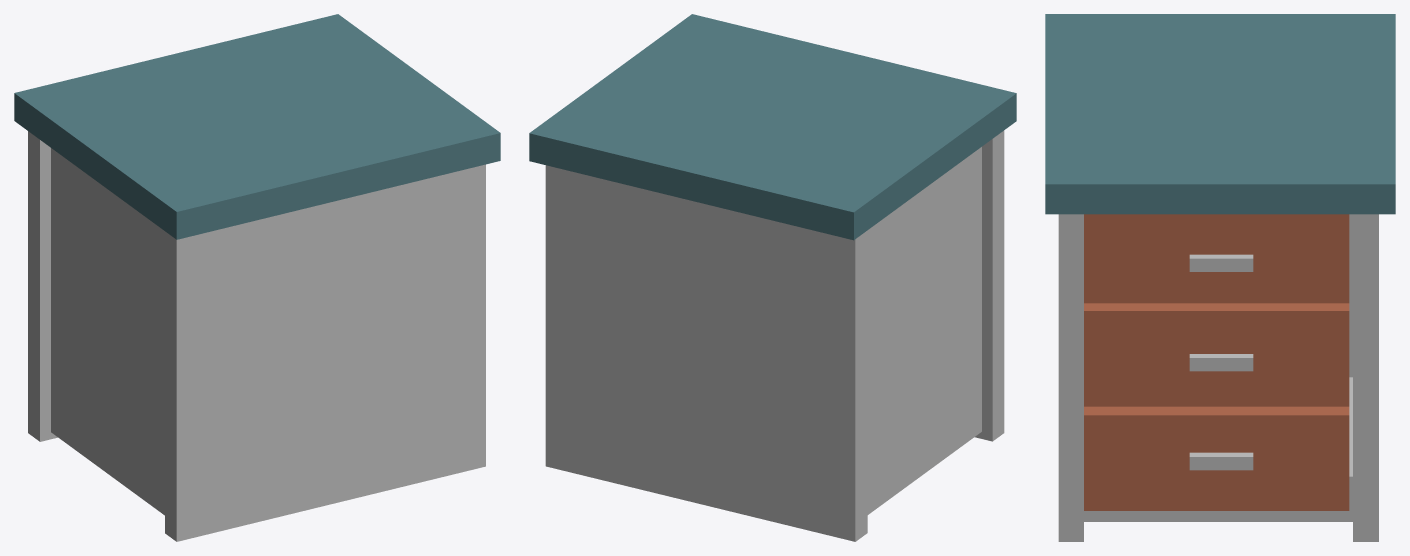
File: SM_Shelf_B1_Empty.fbx
3 views of the same model, side by side, from view 1: azimuth 30°, elevation 25°; view 2: azimuth 150°, elevation 25°; view 3: azimuth 270°, elevation 25° (orthographic). The views are drawn at different scales.
Parts seen in each view (by area): view 1: SM_Shelf_B1_Empty; view 2: SM_Shelf_B1_Empty; view 3: SM_Shelf_B1_Empty.
Part boxes in pixels (left/top/right/bottom): SM_Shelf_B1_Empty: left=14, top=14, right=500, bottom=541; SM_Shelf_B1_Empty: left=529, top=14, right=1016, bottom=541; SM_Shelf_B1_Empty: left=1045, top=14, right=1395, bottom=541.
Size of the model in its own units: 78.31 by 77.61 by 68.07.
1 material, 1 textured.
